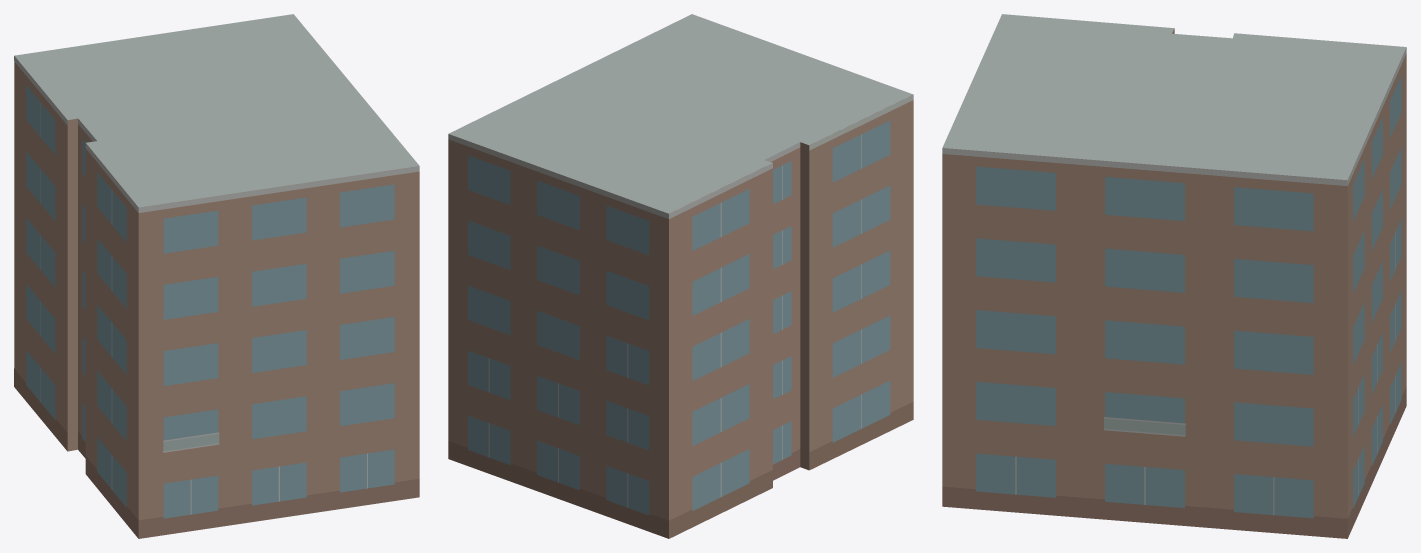
File: survey-upis-32529297.glb
3 renders of one model, left to right at view 1: azimuth 30°, elevation 25°; view 2: azimuth 150°, elevation 25°; view 3: azimuth 270°, elevation 25°, orthographic. The views are drawn at different scales.
Visible parts, largest first — view 1: survey-upis-32529297.tmp; view 2: survey-upis-32529297.tmp; view 3: survey-upis-32529297.tmp.
Part boxes in pixels (x1,y1,x2,y2): survey-upis-32529297.tmp: (14,14,419,538); survey-upis-32529297.tmp: (448,14,913,538); survey-upis-32529297.tmp: (942,14,1406,538).
Bounding box in the file's own units: 14.57 × 14.65 × 17.2.
